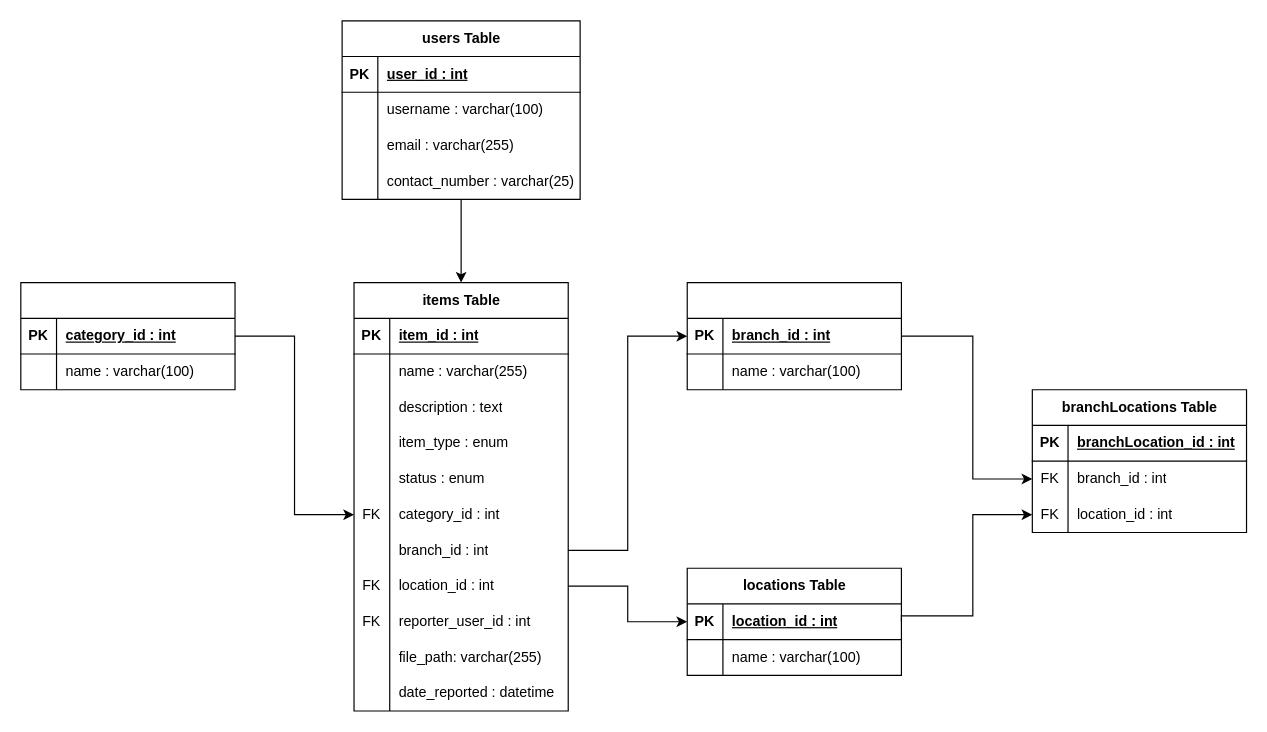
Image size: 1267x732. Some labels were removed from this diagram. Each missing label, with the box of its shape:
branches Table: (686, 281, 901, 390)
categories Table: (20, 281, 235, 390)
